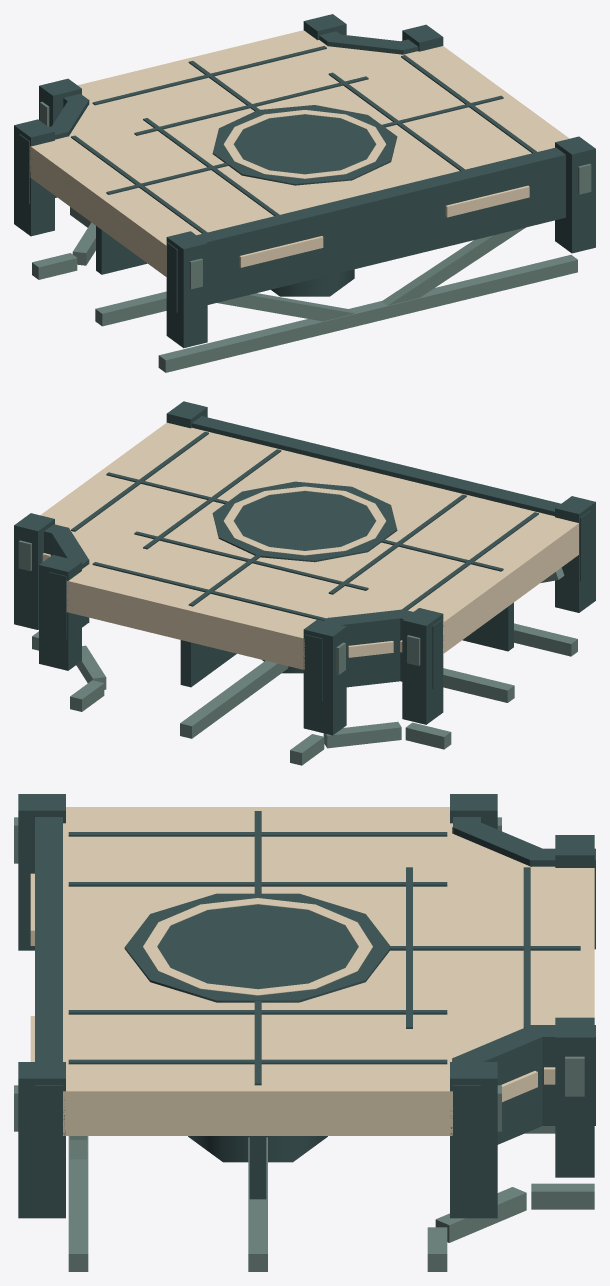
File: Junction_T_lab2.glb
3 views of the same model, one above another, from view 1: azimuth 30°, elevation 25°; view 2: azimuth 150°, elevation 25°; view 3: azimuth 270°, elevation 25° (orthographic). The views are drawn at different scales.
Visible parts, largest first — view 1: Junction_T; view 2: Junction_T; view 3: Junction_T.
Part boxes in pixels (left/top/right/bottom): Junction_T: left=14, top=14, right=595, bottom=372; Junction_T: left=14, top=401, right=595, bottom=765; Junction_T: left=14, top=794, right=595, bottom=1271.
Bounding box in the file's own units: 4.82 × 1.58 × 4.15.
